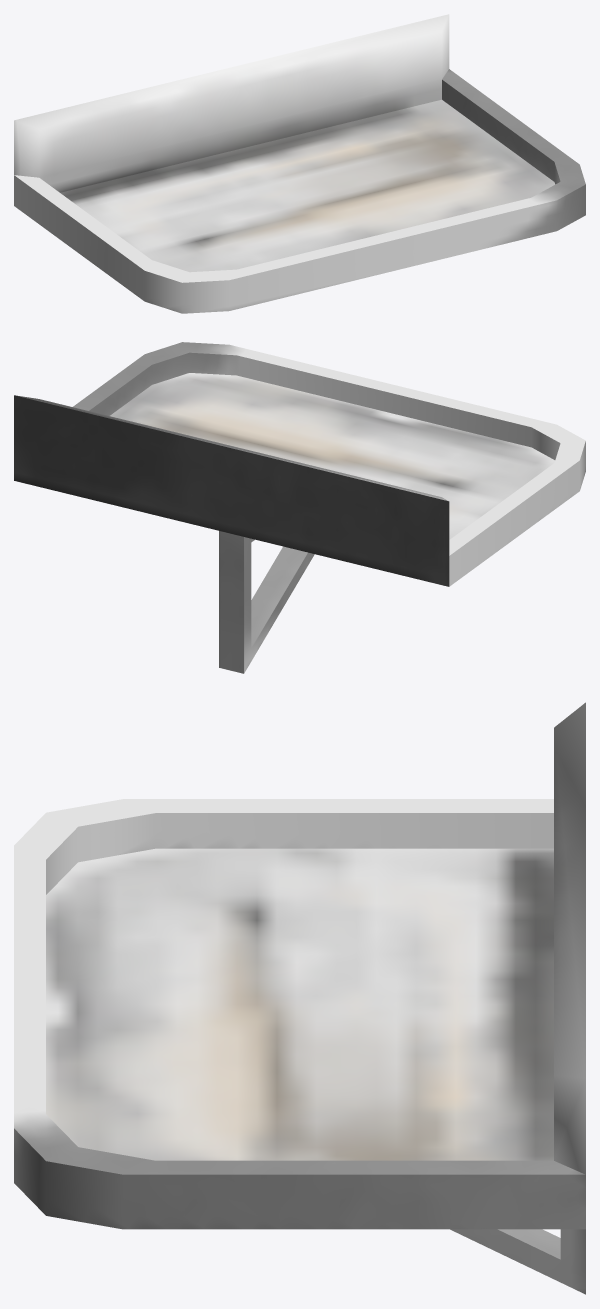
The model's file is SoapHolder_Asset.fbx.
3 views of the same model, one above another, from view 1: azimuth 30°, elevation 25°; view 2: azimuth 150°, elevation 25°; view 3: azimuth 270°, elevation 25° (orthographic). The views are drawn at different scales.
Visible parts, largest first — view 1: SoapHolder; view 2: SoapHolder; view 3: SoapHolder.
Boxes of the visible parts, box(x1,y1,x2,y2) form: SoapHolder: box(14, 14, 585, 313); SoapHolder: box(14, 342, 585, 673); SoapHolder: box(14, 702, 585, 1294).
Size of the model in its own units: 17.85 by 11.48 by 8.72.
